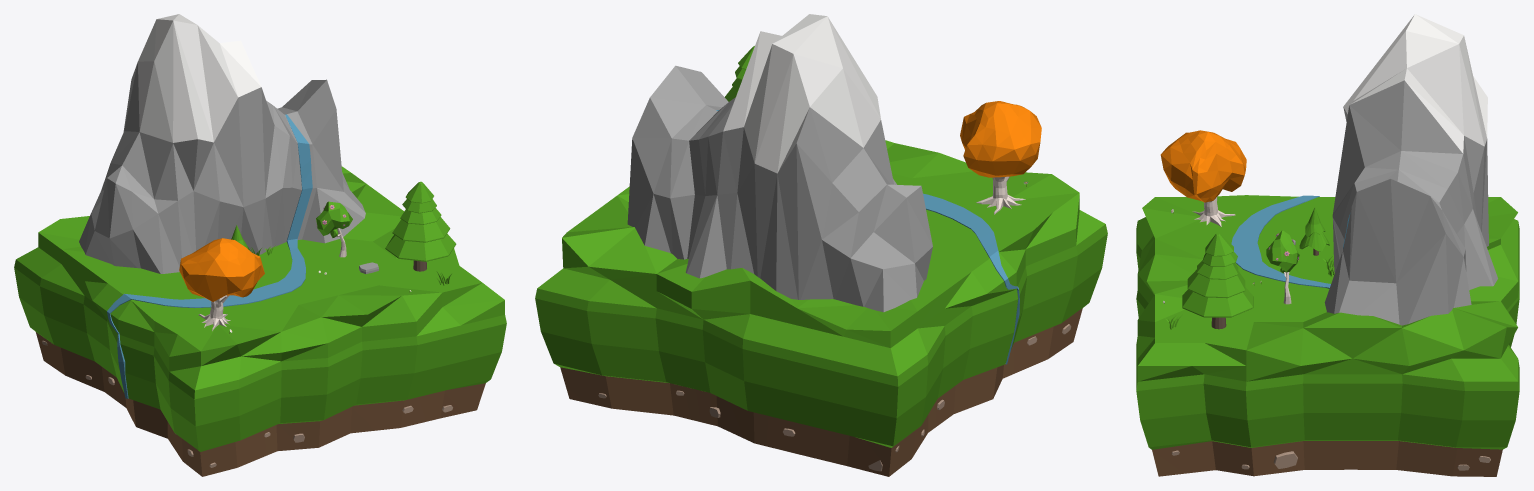
Rendered from Island_16.glb.
3 views of the same model, side by side, from view 1: azimuth 30°, elevation 25°; view 2: azimuth 150°, elevation 25°; view 3: azimuth 270°, elevation 25° (orthographic). The views are drawn at different scales.
Visible parts, largest first — view 1: Isl16_Base, Isl16_Tree_2, Isl16_Tree_1, Isl16_Cherry_Tree_2; view 2: Isl16_Base, Isl16_Tree_2; view 3: Isl16_Base, Isl16_Tree_2, Isl16_Tree_1, Isl16_Cherry_Tree_2, Isl16_Tree_3.
Boxes of the visible parts, <box> form: Isl16_Base: <box>14,14,506,476</box>; Isl16_Tree_2: <box>179,238,264,330</box>; Isl16_Tree_1: <box>385,181,456,271</box>; Isl16_Cherry_Tree_2: <box>316,201,352,257</box>; Isl16_Base: <box>535,14,1107,476</box>; Isl16_Tree_2: <box>960,101,1041,214</box>; Isl16_Base: <box>1136,14,1519,476</box>; Isl16_Tree_2: <box>1160,130,1246,226</box>; Isl16_Tree_1: <box>1182,233,1253,329</box>; Isl16_Cherry_Tree_2: <box>1266,230,1299,304</box>; Isl16_Tree_3: <box>1299,207,1329,255</box>.
Bounding box in the file's own units: 22.21 × 23.48 × 22.18.
Materials: 1 (1 with a texture image).
